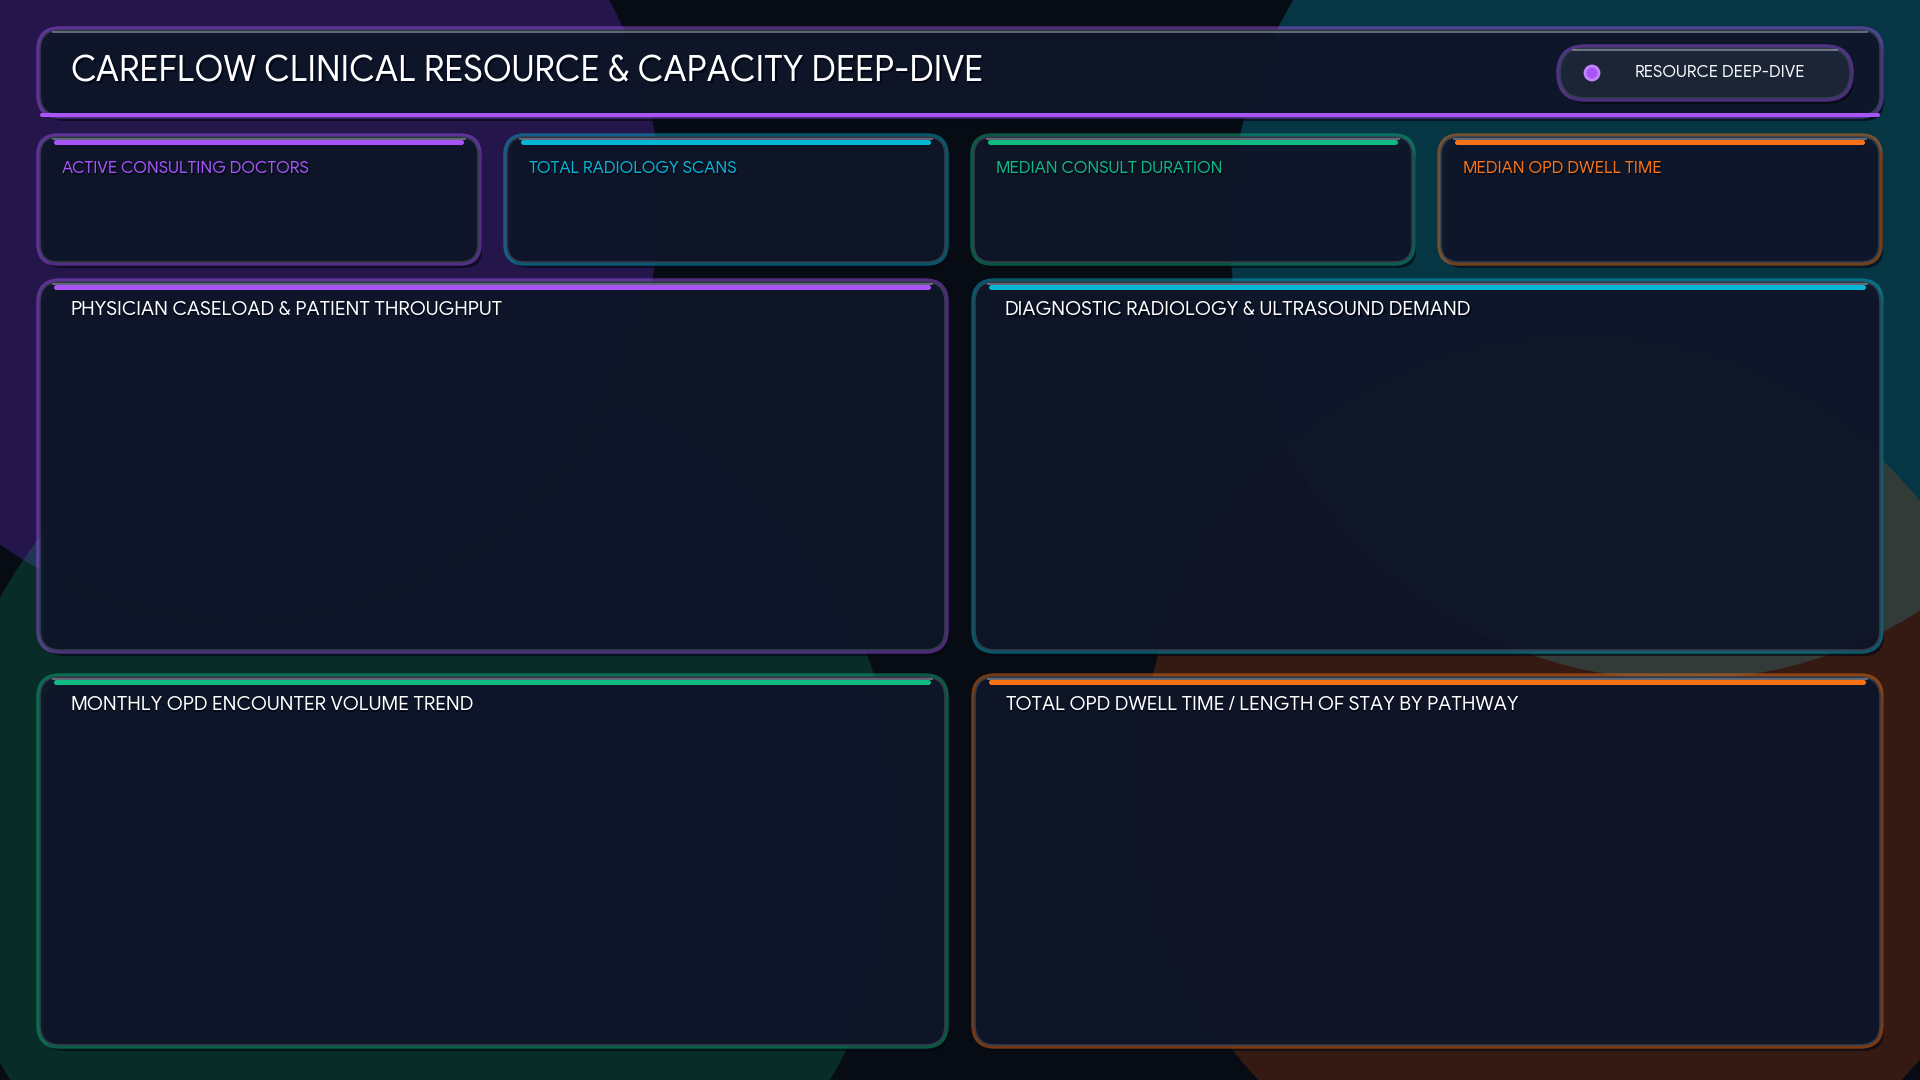

This screenshot's page, from the dashboard's own definition file:
{"tool":"powerbi","page":{"name":"Page 2","canvas":[1920,1080],"ordinal":1},"visuals":[{"type":"cardVisual","fields":{"Data":["Measure.Active Doctors"]},"box":[109.7,155.4,281.1,100.6],"z":0},{"type":"cardVisual","fields":{"Data":["Measure.Median Total Stay (Hours)"]},"box":[1510.7,155.4,281.1,100.6],"z":1000},{"type":"cardVisual","fields":{"Data":["Measure.Median Consult Duration"]},"box":[1051.3,155.4,281.1,100.6],"z":2000},{"type":"cardVisual","fields":{"Data":["Measure.Total Imaging Scans"]},"box":[575.9,155.4,281.1,100.6],"z":3000},{"type":"clusteredBarChart","fields":{"Category":["cleaned_HospitalOPD.prescription_doctor_name"],"Y":["Measure.Total Encounters"]},"box":[59.4,326.8,870.7,308.5],"z":4000},{"type":"donutChart","fields":{"Category":["cleaned_HospitalOPD.imaging_name"],"Y":["Measure.Total Imaging Scans"]},"box":[990.6,326.5,869.9,307.3],"z":5000},{"type":"lineChart","fields":{"Category":["cleaned_HospitalOPD.YearMonth"],"Y":["Measure.Total Encounters"]},"box":[60.4,716.2,869.9,321.1],"z":6000},{"type":"clusteredColumnChart","fields":{"Category":["cleaned_HospitalOPD.flow_name"],"Y":["Measure.Median Total Stay (Hours)"]},"box":[990.6,727.2,869.9,310.1],"z":7000},{"type":"listSlicer","fields":{"Values":["cleaned_HospitalOPD.prescription_doctor_name"]},"box":[1124.8,25.4,412.6,83],"z":8001}]}

Visuals, with their boxes in screenshot pixels (x1, y1, x2, y2), scaled from the page's 1920x1080 canvas onto the 1920x1080 screenshot:
cardVisual - Measure.Active Doctors: (110, 155, 391, 256)
cardVisual - Measure.Median Total Stay (Hours): (1511, 155, 1792, 256)
cardVisual - Measure.Median Consult Duration: (1051, 155, 1332, 256)
cardVisual - Measure.Total Imaging Scans: (576, 155, 857, 256)
clusteredBarChart - cleaned_HospitalOPD.prescription_doctor_name x Measure.Total Encounters: (59, 327, 930, 635)
donutChart - cleaned_HospitalOPD.imaging_name x Measure.Total Imaging Scans: (991, 326, 1860, 634)
lineChart - cleaned_HospitalOPD.YearMonth x Measure.Total Encounters: (60, 716, 930, 1037)
clusteredColumnChart - cleaned_HospitalOPD.flow_name x Measure.Median Total Stay (Hours): (991, 727, 1860, 1037)
listSlicer - cleaned_HospitalOPD.prescription_doctor_name: (1125, 25, 1537, 108)
